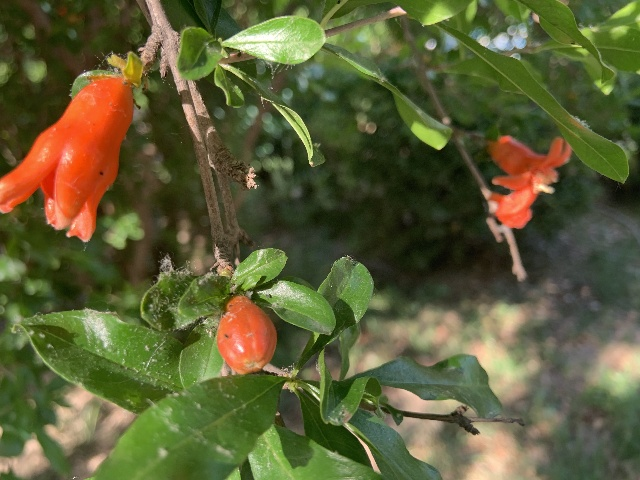bud: (216, 294, 276, 374)
flower: (0, 75, 133, 240), (486, 134, 572, 229)
